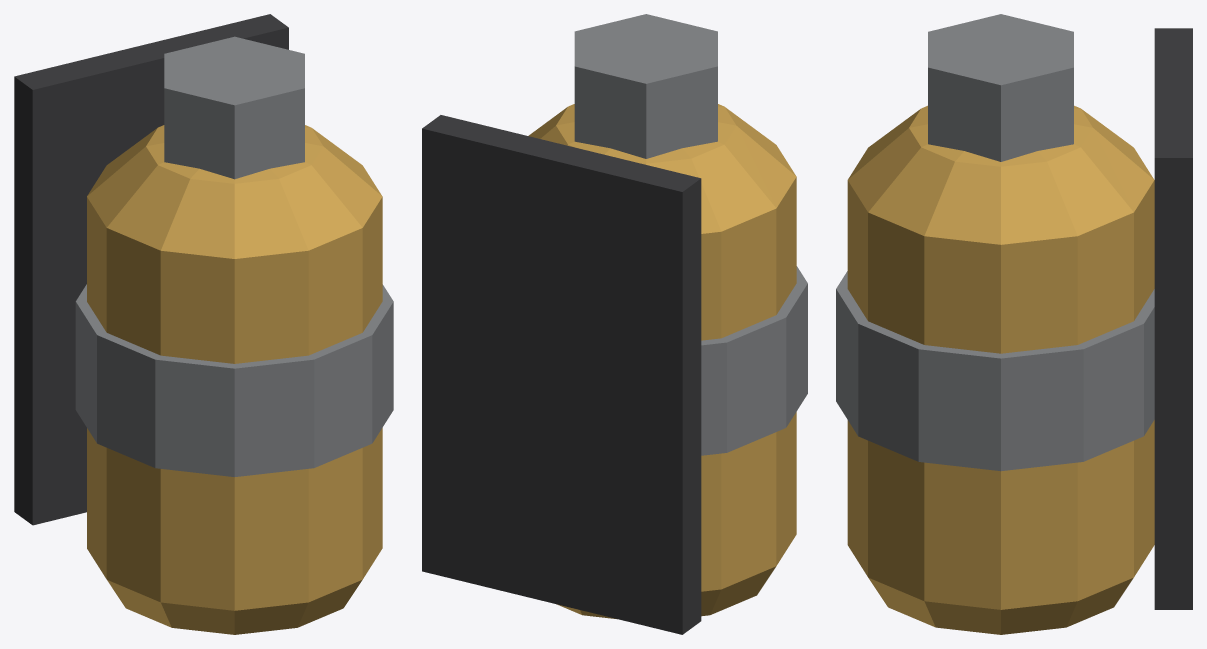
The model's file is person_pack_vge_oxygen.obj.
3 views of the same model, side by side, from view 1: azimuth 30°, elevation 25°; view 2: azimuth 150°, elevation 25°; view 3: azimuth 270°, elevation 25° (orthographic). The views are drawn at different scales.
Visible parts, largest first — view 1: person_pack_vge_oxygen_1, person_pack_vge_oxygen_0, person_pack_vge_oxygen_2, person_pack_vge_oxygen_3; view 2: person_pack_vge_oxygen_0, person_pack_vge_oxygen_1, person_pack_vge_oxygen_3, person_pack_vge_oxygen_2; view 3: person_pack_vge_oxygen_1, person_pack_vge_oxygen_2, person_pack_vge_oxygen_0, person_pack_vge_oxygen_3.
Boxes of the visible parts, x1,y1,x2,y2 form: person_pack_vge_oxygen_1: (87, 125, 382, 634); person_pack_vge_oxygen_0: (14, 14, 288, 525); person_pack_vge_oxygen_2: (75, 284, 393, 477); person_pack_vge_oxygen_3: (164, 36, 304, 179); person_pack_vge_oxygen_0: (422, 115, 701, 634); person_pack_vge_oxygen_1: (528, 104, 796, 619); person_pack_vge_oxygen_3: (574, 14, 717, 158); person_pack_vge_oxygen_2: (701, 266, 807, 455); person_pack_vge_oxygen_1: (847, 105, 1154, 634); person_pack_vge_oxygen_2: (836, 271, 1154, 471); person_pack_vge_oxygen_0: (1154, 28, 1192, 609); person_pack_vge_oxygen_3: (928, 14, 1073, 161).
Size of the model in its own units: 0.172 by 0.305 by 0.186.
